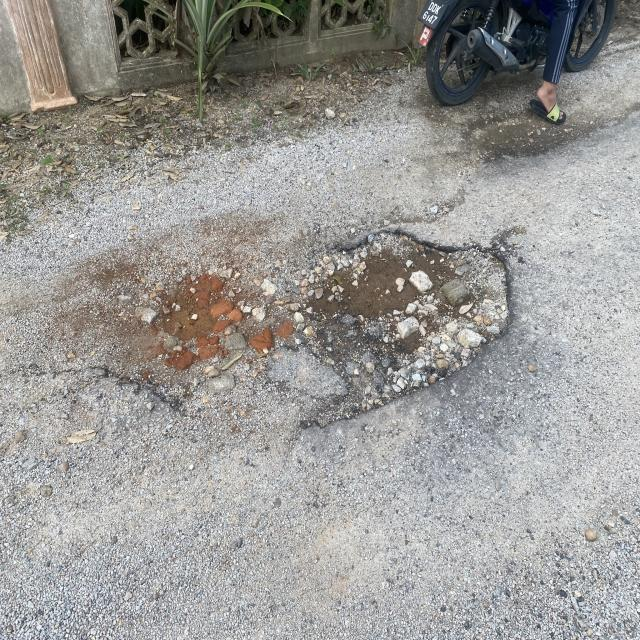pothole: (54, 193, 566, 452)
